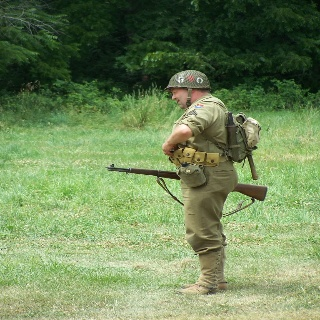rifle: (105, 160, 268, 202)
